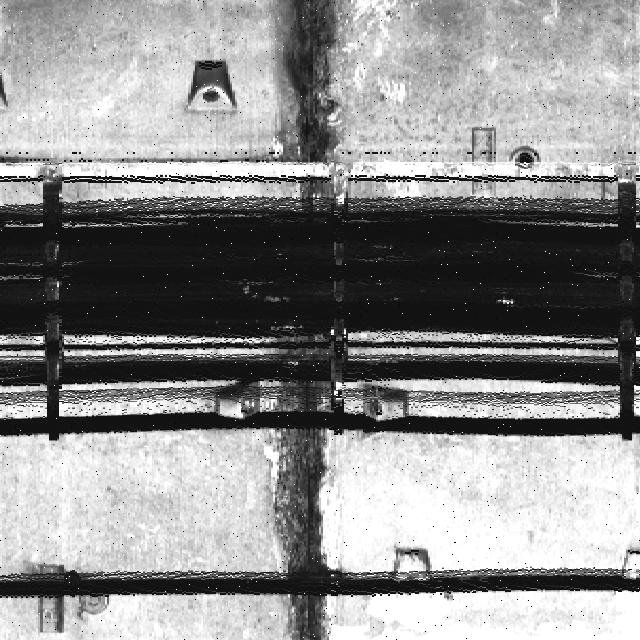leakage: (270, 355, 350, 639), (272, 0, 362, 199)
